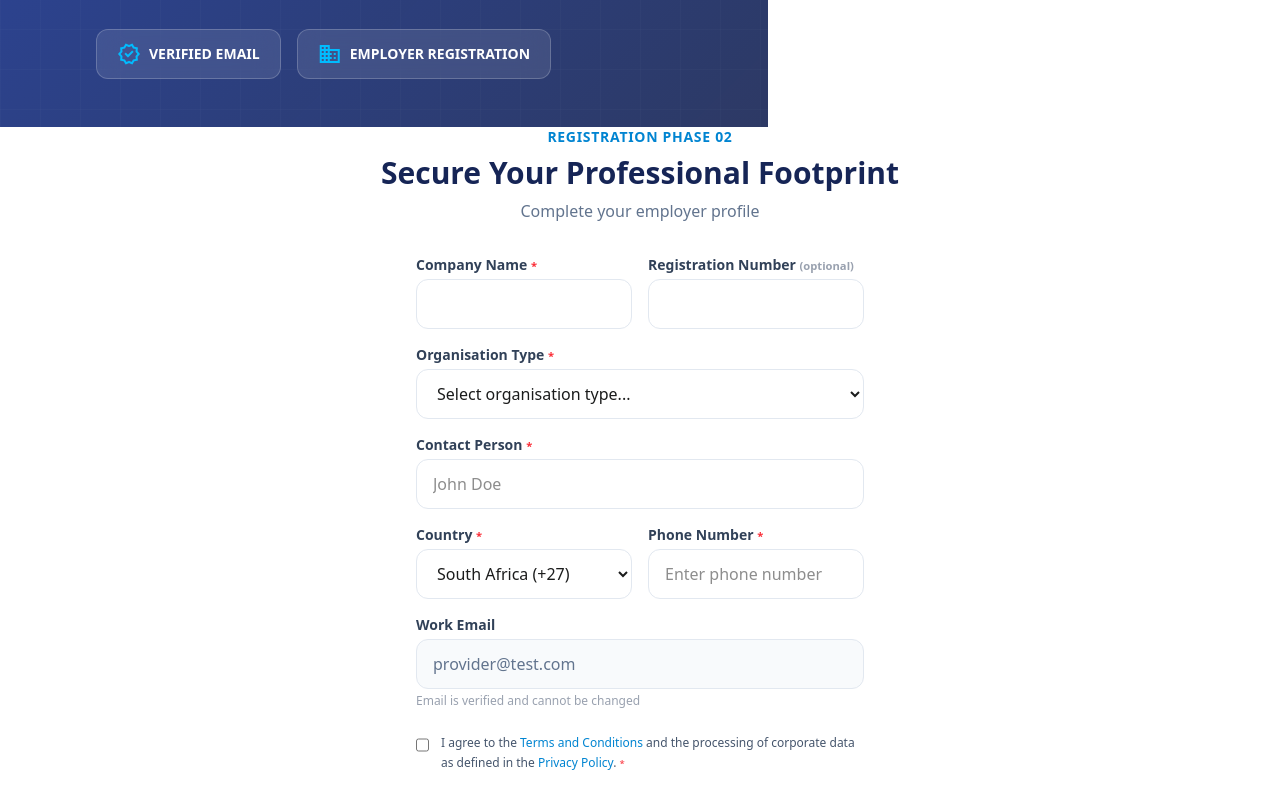
ProviderRegistration › validates invalid contact person
(page scrolled)
In the field with placeholder "John Doe": (640, 484) [416,459,864,509], type "12345"
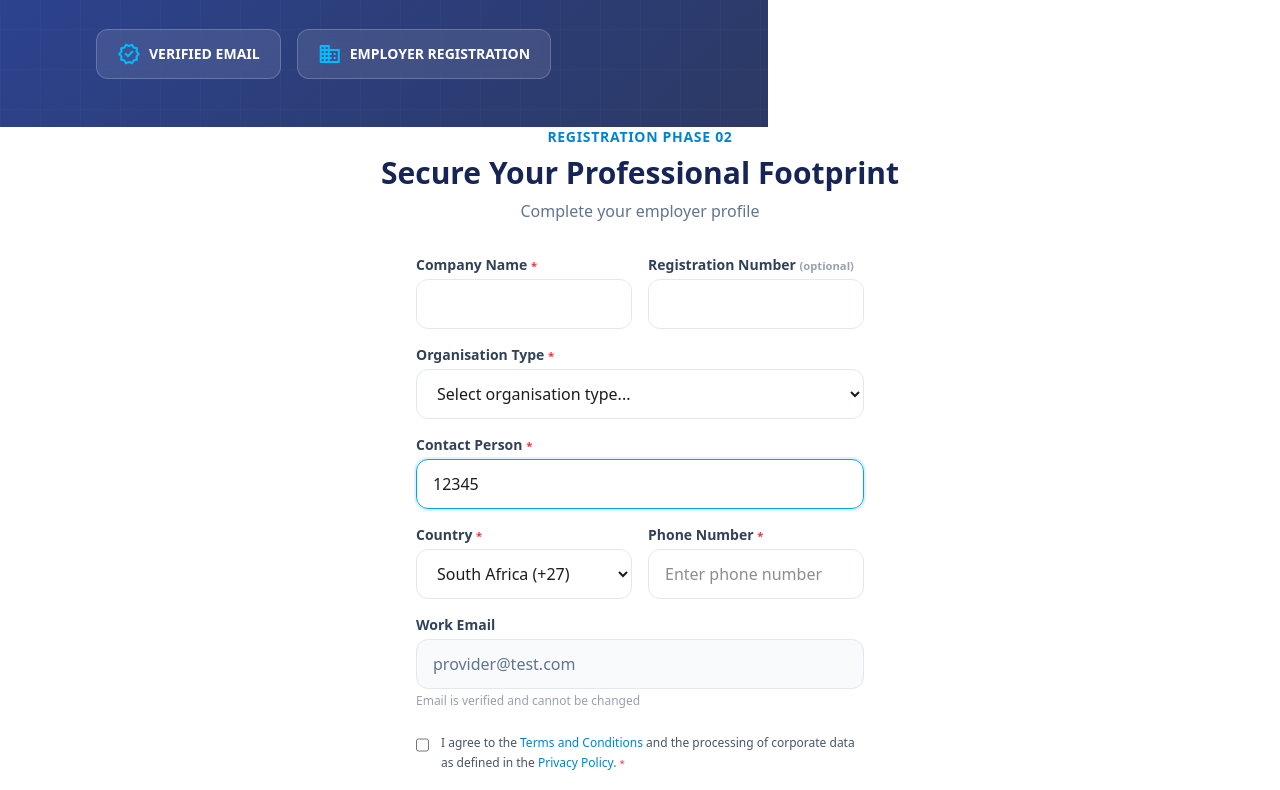
Leave the field with placeholder "John Doe", box [416,459,864,509]
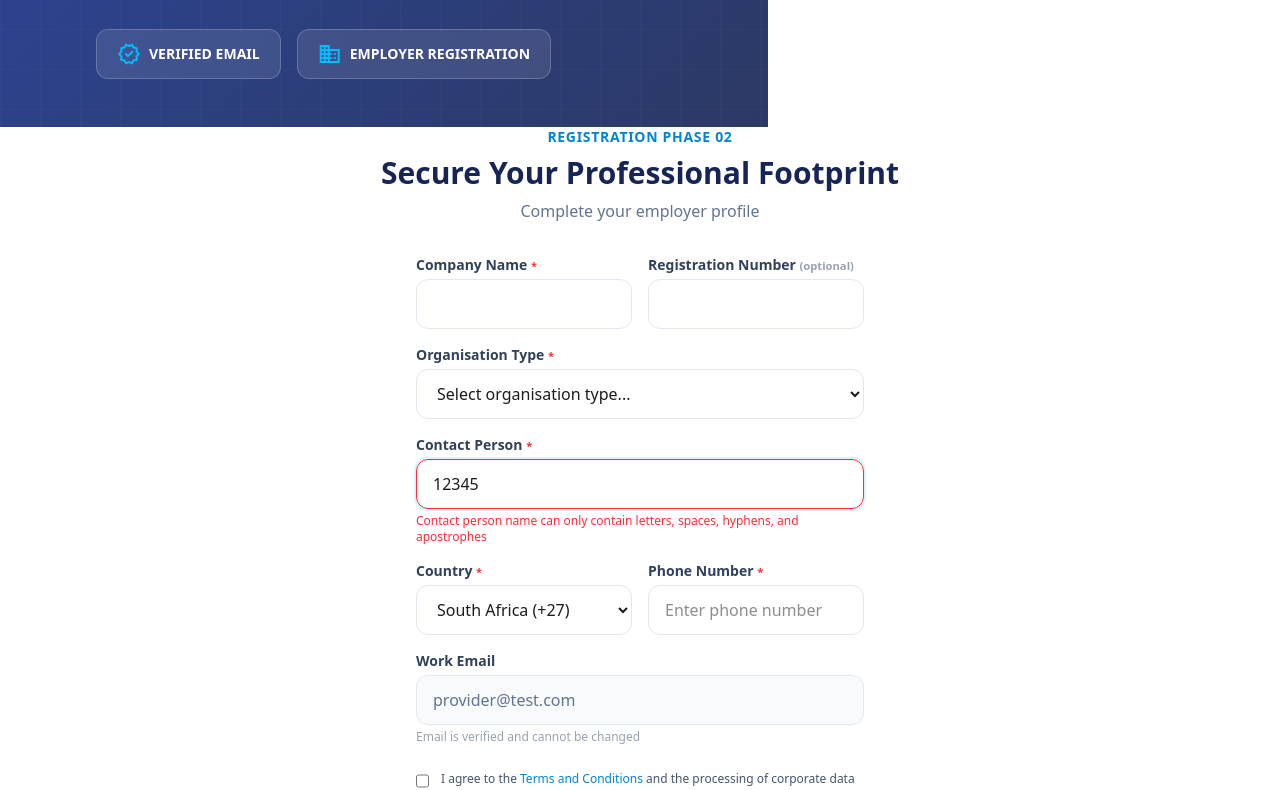
Result: the text "Contact person name can only contain" is shown at [416,512,799,545]
